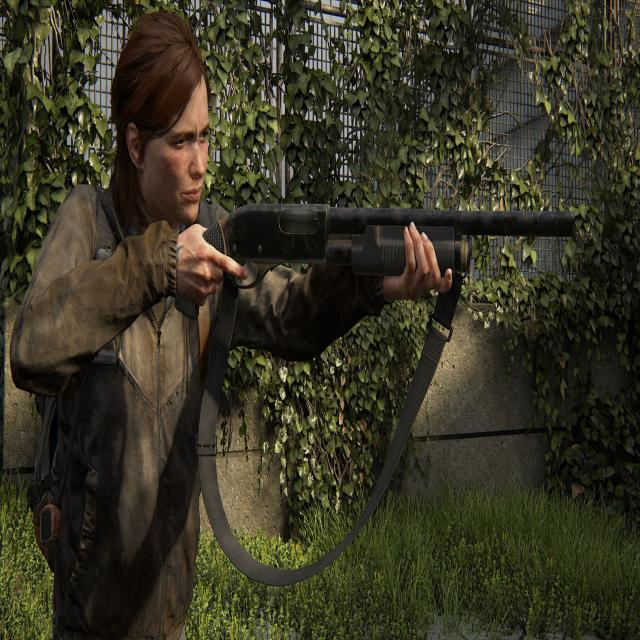ShotGun: (175, 205, 572, 305)
